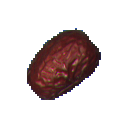gd: (20, 19, 111, 107)
